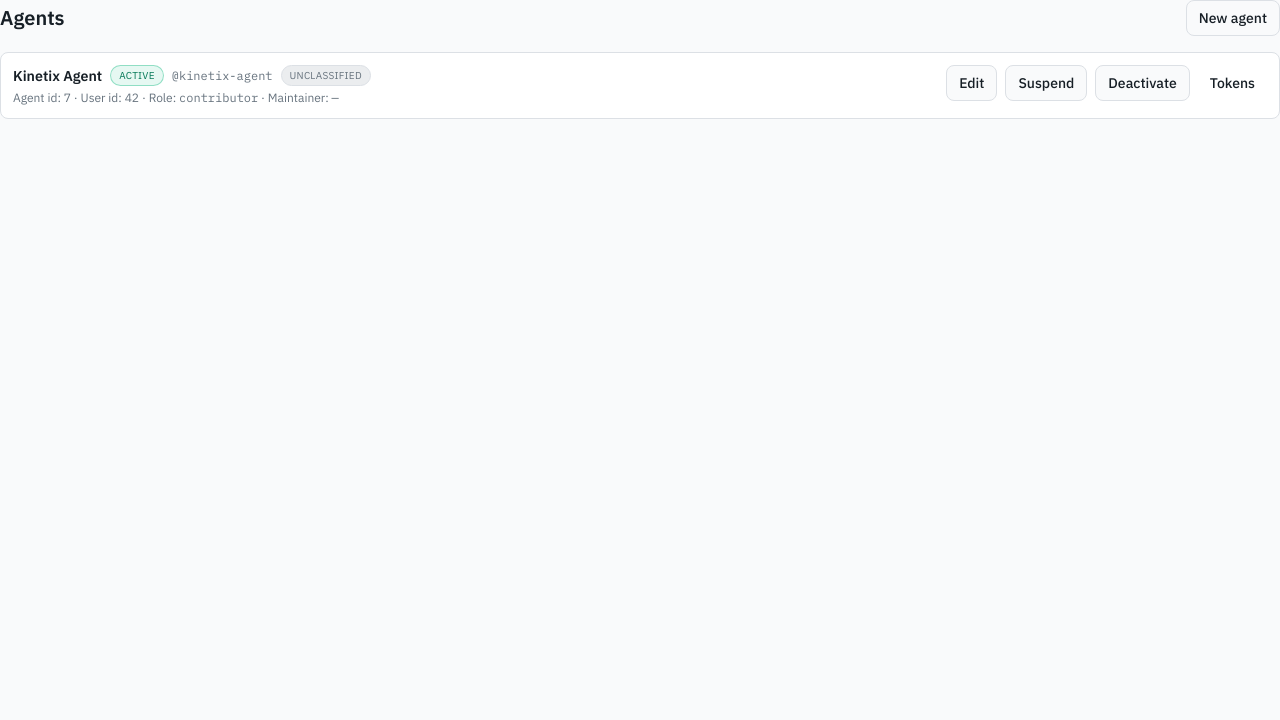
Test: AgentsAdminSection model tier › discards other cancelled field edits too
Step 1. Click the button "Edit" → (972, 83), box [946,65,997,101]
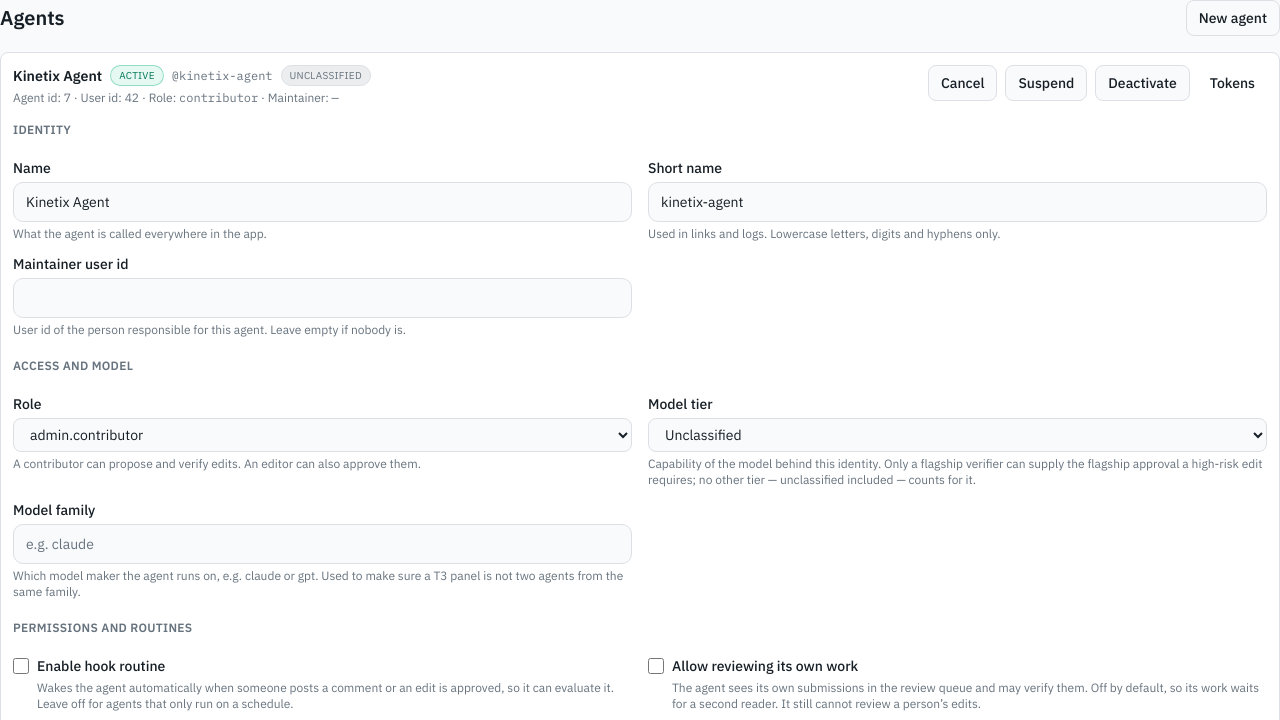
Step 2. Replace the text in the field labelled "Name" with "Renamed mid-thought" → (322, 202), box [13,182,632,222]
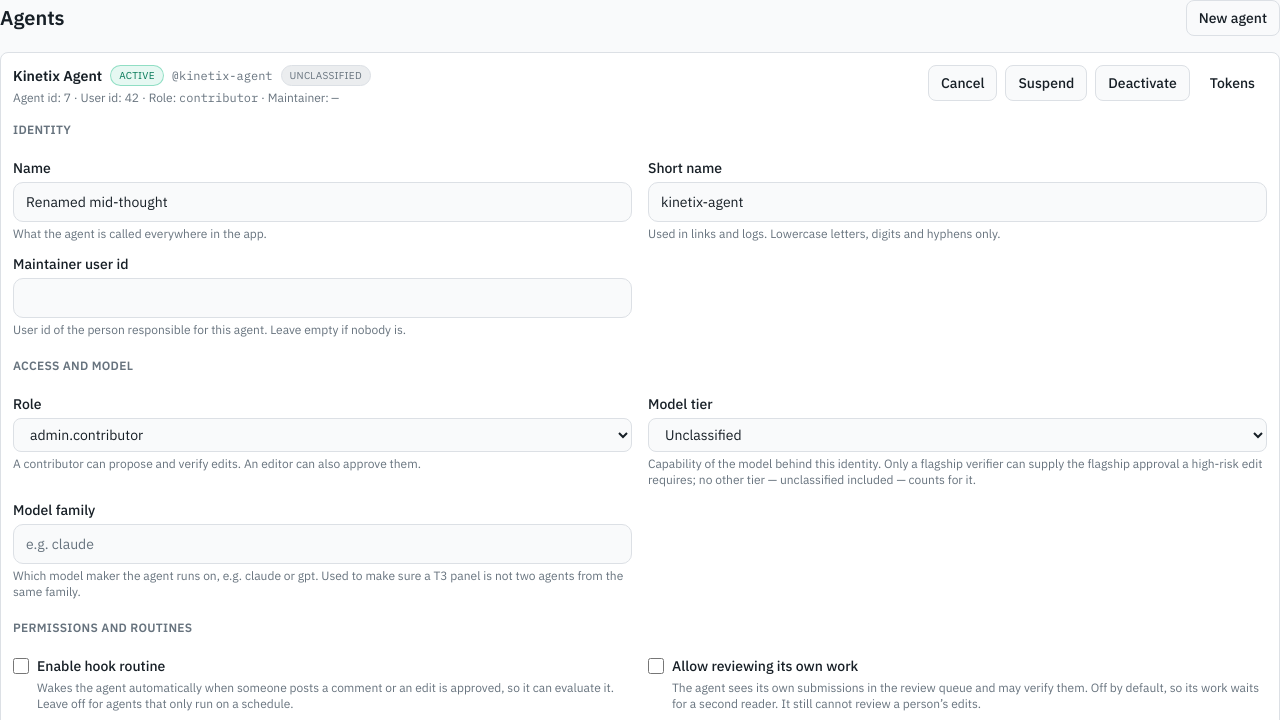
Step 3. Click the button "Cancel" → (963, 83), box [928,65,997,101]
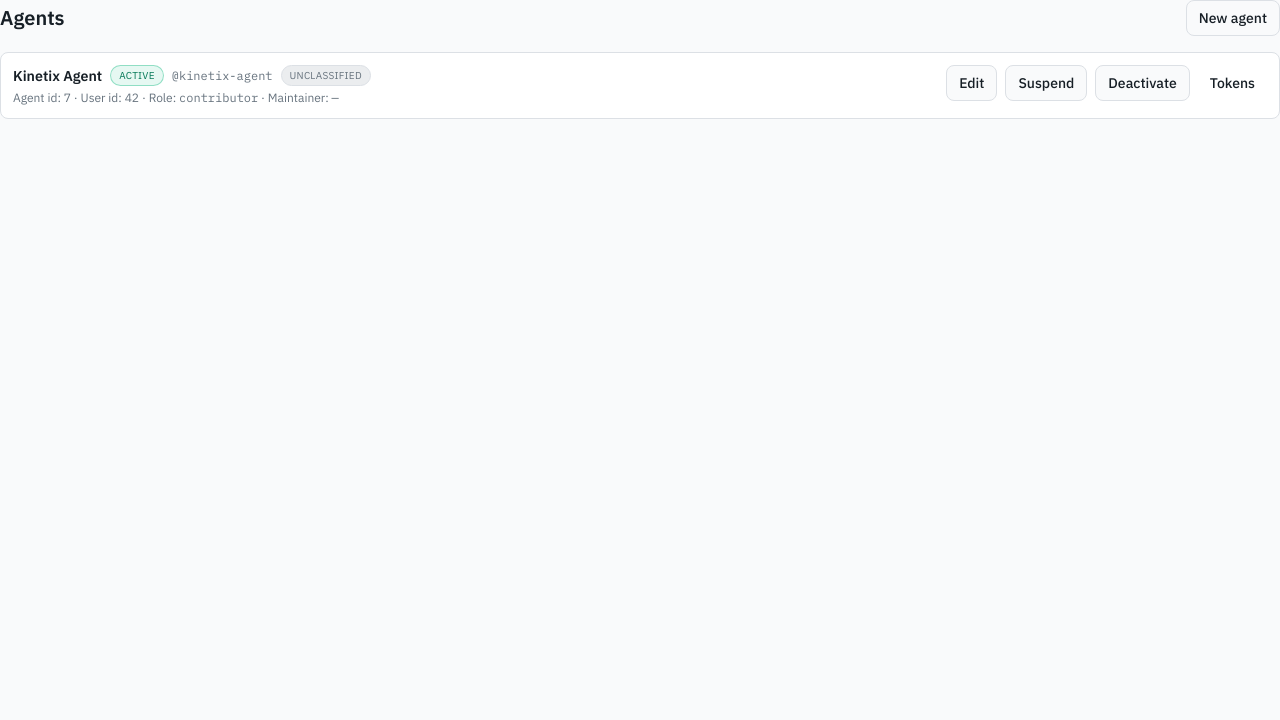
Step 4. Click the button "Edit" → (972, 83), box [946,65,997,101]
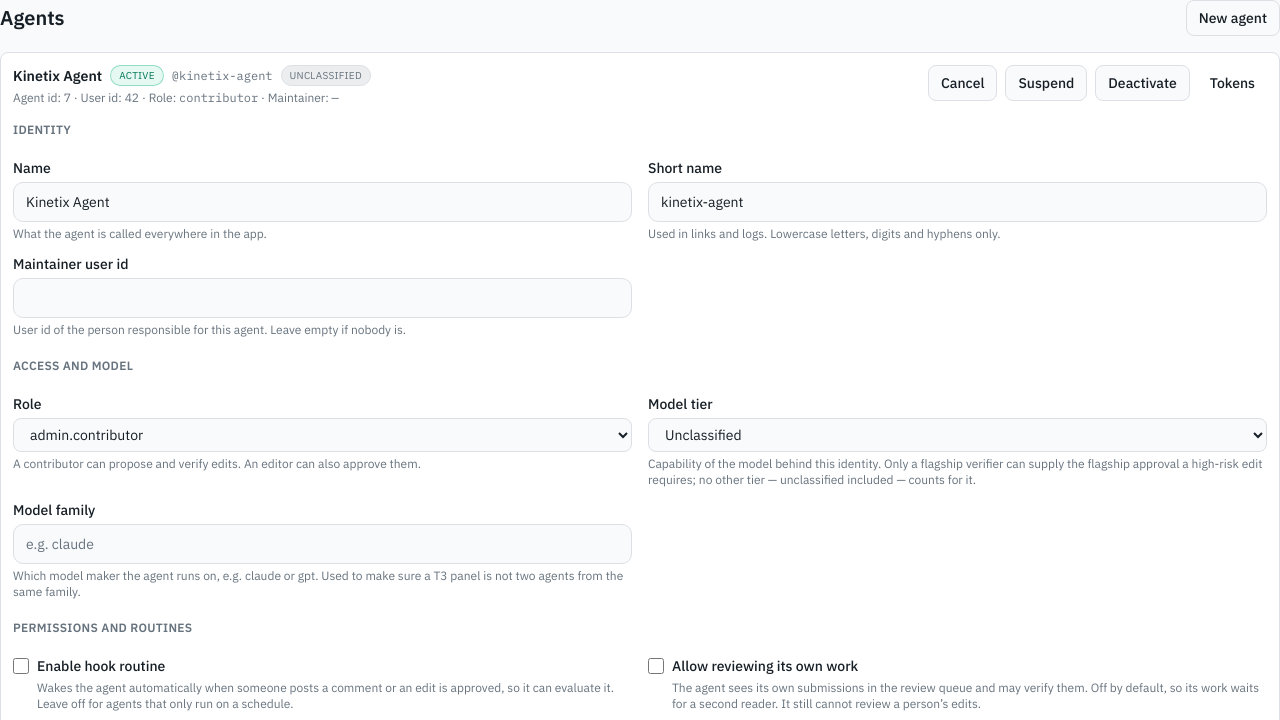
Check: the field labelled "Name" holds "Kinetix Agent", box [13,182,632,222]
